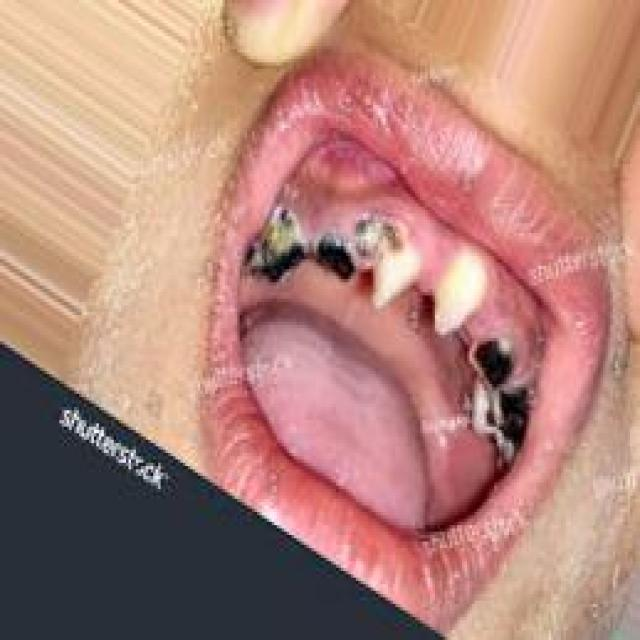caries: (463, 367, 530, 466), (246, 204, 314, 288), (472, 310, 530, 391), (352, 194, 406, 278), (317, 224, 364, 304)
